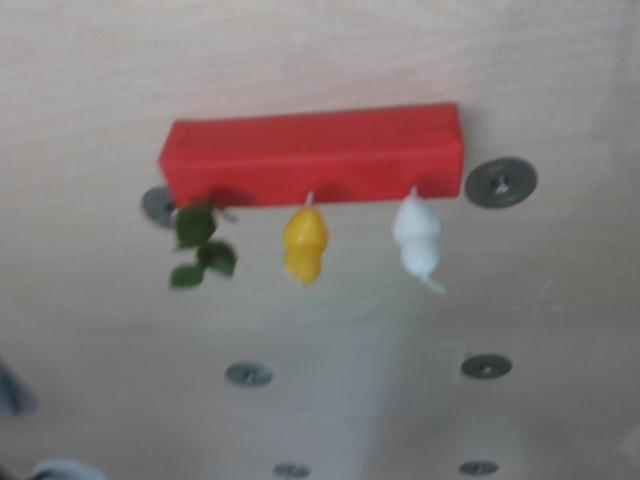leaf: (156, 185, 251, 297)
w_duck: (383, 177, 463, 297)
y_duck: (274, 186, 346, 297)
